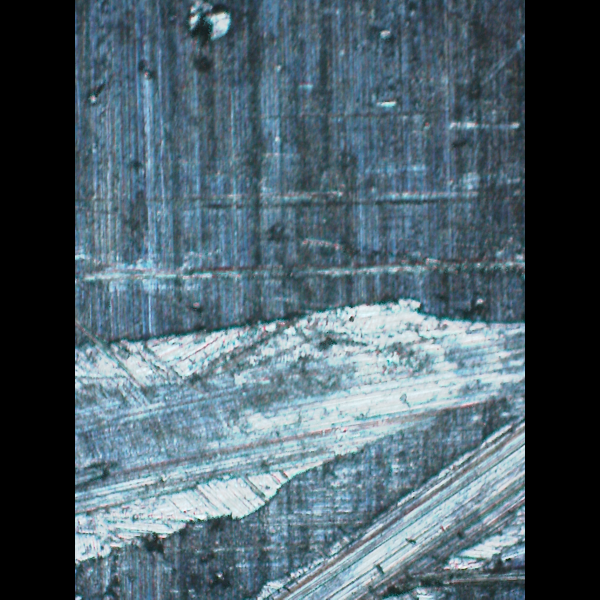d: (75, 284, 522, 599), (178, 0, 241, 70)
